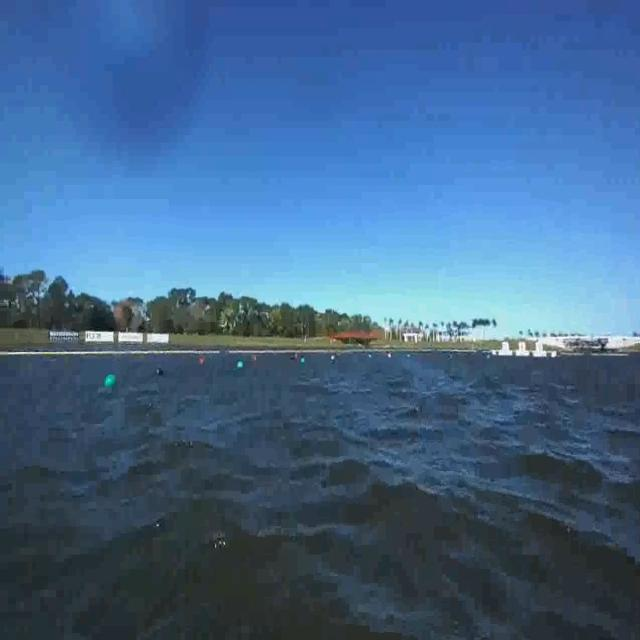green-buoy: (105, 376, 118, 390)
